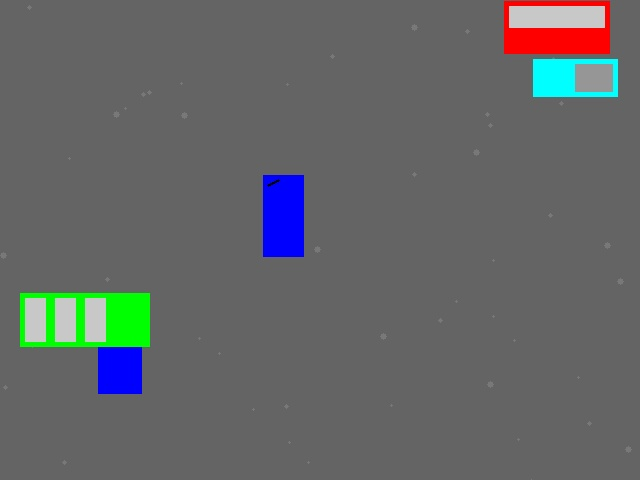bus: (20, 293, 149, 346)
car: (504, 1, 609, 53)
motorcycle: (98, 306, 141, 393), (263, 175, 303, 256)
truck: (533, 59, 617, 96)
